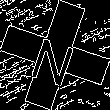N_N: (28, 25, 82, 85)
